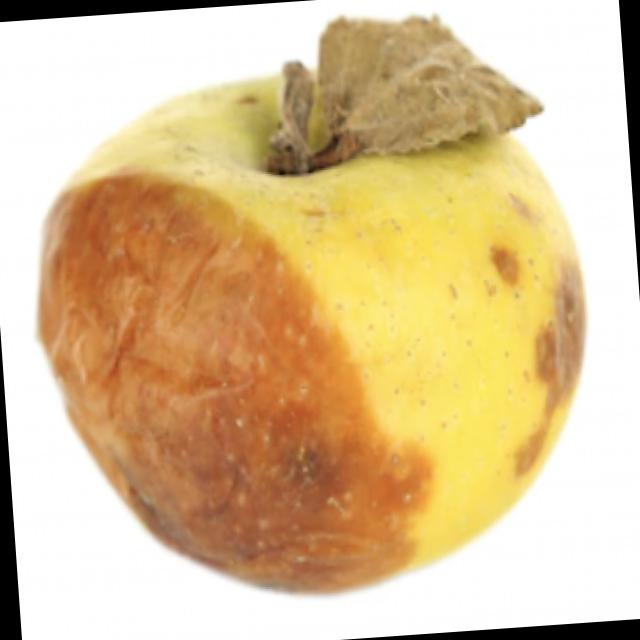rotten_apple: (21, 11, 602, 614)
